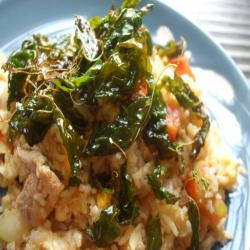rice: (6, 148, 227, 247)
salad: (30, 30, 159, 109)
